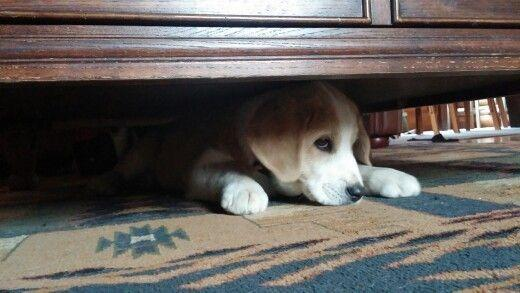puppy-dog: (88, 81, 423, 217)
